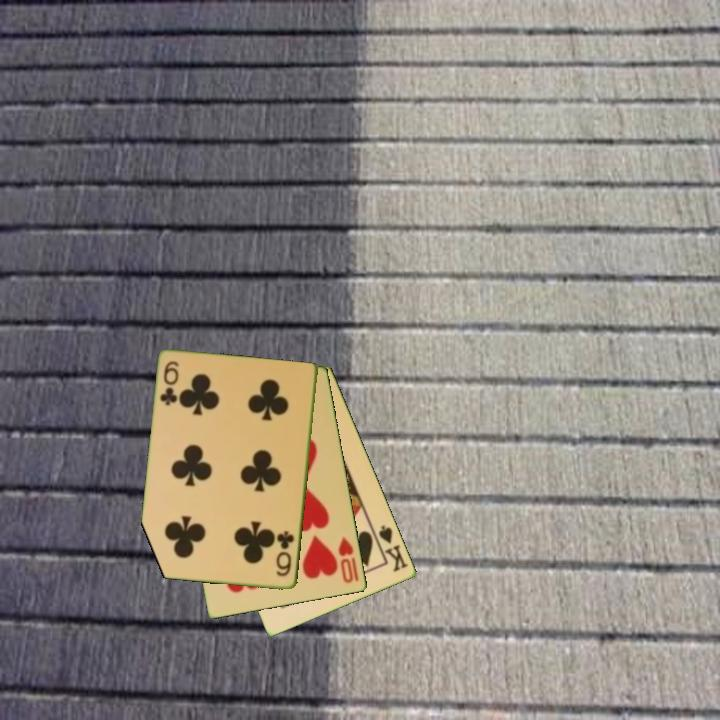10h: (335, 533, 362, 586)
6c: (273, 528, 298, 580), (157, 358, 182, 409)
Ks: (370, 522, 412, 575)
